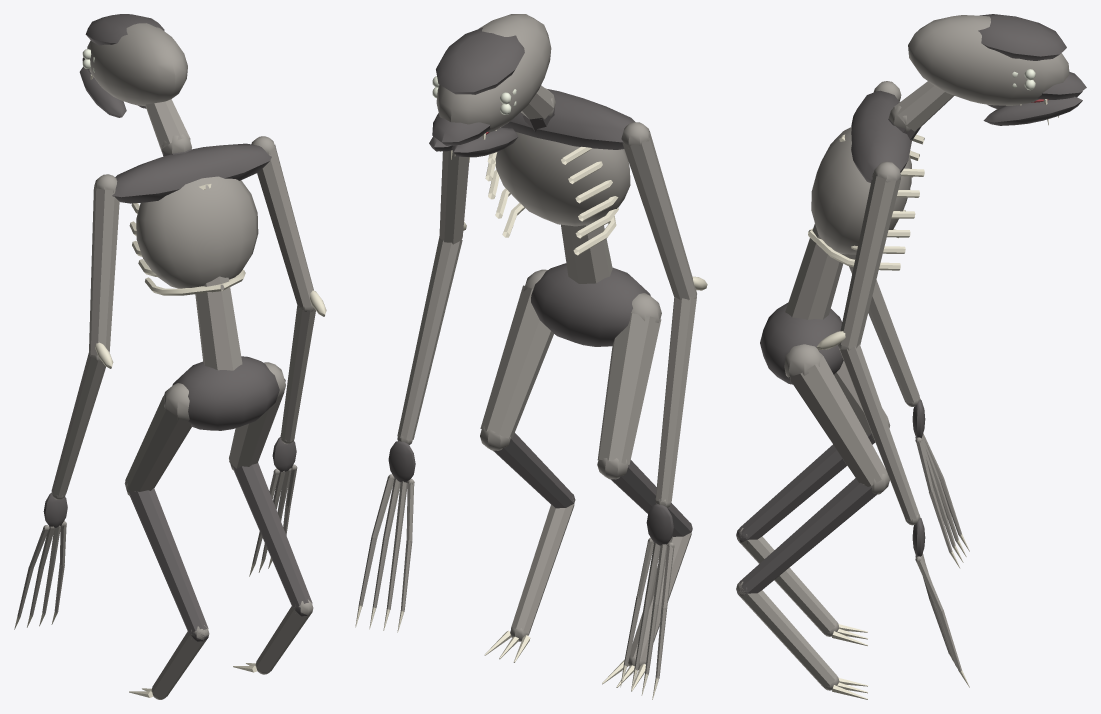
The model's file is Creature.fbx.
The picture shows the model from 3 angles, left to right: view 1: azimuth 30°, elevation 25°; view 2: azimuth 150°, elevation 25°; view 3: azimuth 270°, elevation 25°; orthographic projection. The views are drawn at different scales.
Parts seen in each view (by area): view 1: Chest__skin, Head__skin, Hips__hide, Chest__hide, ArmL__skin, LegL__skin, ArmR__skin, KneeL__hide, KneeR__hide, Hips__skin, ElbowL__skin, ElbowR__skin (+11 smaller); view 2: Chest__skin, LegL__skin, Hips__hide, LegR__skin, Head__skin, Head__hide, ArmL__skin, Chest__hide, ElbowR__skin, ElbowL__skin, WristR__skin, WristL__skin (+11 smaller); view 3: Head__skin, LegR__skin, Chest__skin, ArmR__skin, KneeR__hide, Chest__hide, Head__hide, ElbowR__skin, Hips__hide, KneeL__hide, Hips__skin, HockR__skin (+8 smaller).
Part boxes in pixels (<box>): Chest__skin: <box>136,176,258,288</box>; Head__skin: <box>87,23,187,105</box>; Hips__hide: <box>172,356,279,430</box>; Chest__hide: <box>112,143,271,203</box>; ArmL__skin: <box>89,174,119,362</box>; LegL__skin: <box>124,383,191,495</box>; ArmR__skin: <box>251,136,314,312</box>; KneeL__hide: <box>129,488,208,641</box>; KneeR__hide: <box>233,462,312,616</box>; Hips__skin: <box>195,276,242,370</box>; ElbowL__skin: <box>51,352,105,499</box>; ElbowR__skin: <box>280,305,315,444</box>; Chest__skin: <box>495,132,630,226</box>; LegL__skin: <box>597,293,661,479</box>; Hips__hide: <box>531,263,650,346</box>; LegR__skin: <box>480,269,553,450</box>; Head__skin: <box>436,14,551,132</box>; Head__hide: <box>432,27,524,145</box>; ArmL__skin: <box>621,122,696,299</box>; Chest__hide: <box>501,89,634,149</box>; ElbowR__skin: <box>397,236,462,444</box>; ElbowL__skin: <box>655,296,696,507</box>; WristR__skin: <box>358,474,414,611</box>; WristL__skin: <box>623,537,674,678</box>; Head__skin: <box>908,15,1069,105</box>; LegR__skin: <box>784,344,889,494</box>; Chest__skin: <box>811,127,911,254</box>; ArmR__skin: <box>838,161,901,350</box>; KneeR__hide: <box>736,478,877,597</box>; Chest__hide: <box>851,90,920,182</box>; Head__hide: <box>978,14,1086,99</box>; ElbowR__skin: <box>840,344,920,525</box>; Hips__hide: <box>760,302,843,384</box>; KneeL__hide: <box>736,434,875,543</box>; Hips__skin: <box>785,224,845,319</box>; HockR__skin: <box>736,581,839,690</box>.
Size of the model in its own units: 1.02 by 2.25 by 1.1.
